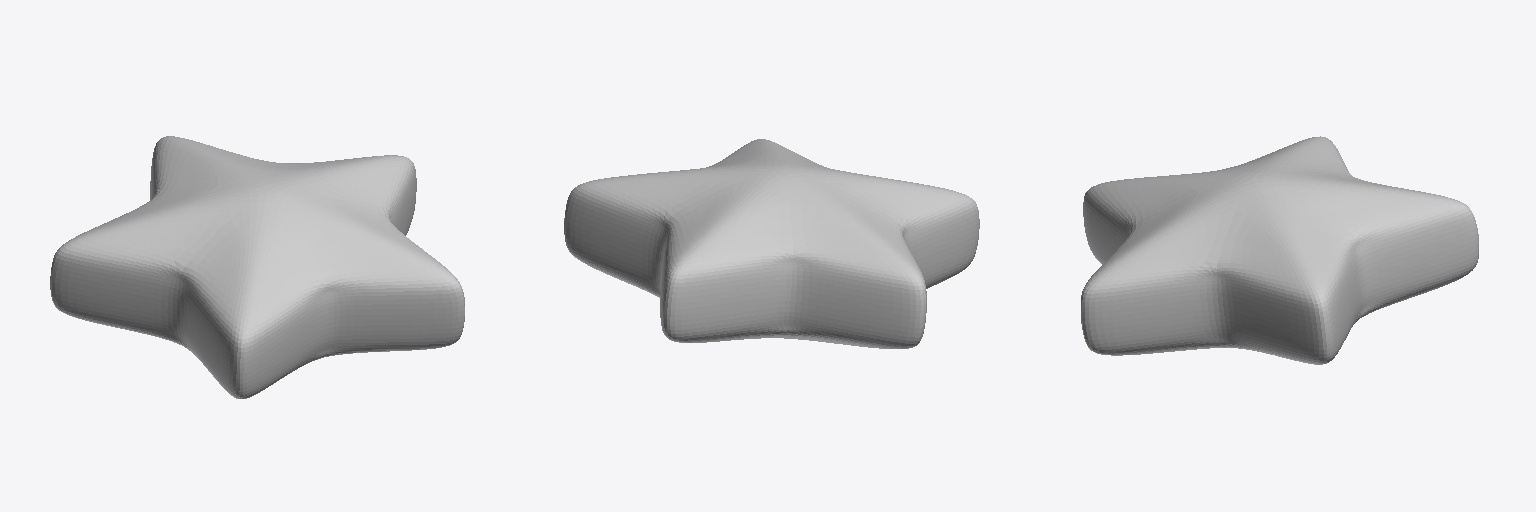
File: Star.obj
3 renders of one model, left to right at view 1: azimuth 30°, elevation 25°; view 2: azimuth 150°, elevation 25°; view 3: azimuth 270°, elevation 25°, orthographic.
Parts seen in each view (by area): view 1: Star_Kreis; view 2: Star_Kreis; view 3: Star_Kreis.
Boxes of the visible parts, x1,y1,x2,y2 form: Star_Kreis: [50, 136, 464, 398]; Star_Kreis: [564, 139, 979, 348]; Star_Kreis: [1081, 136, 1478, 364].
Size of the model in its own units: 1.73 by 0.6984 by 1.65.